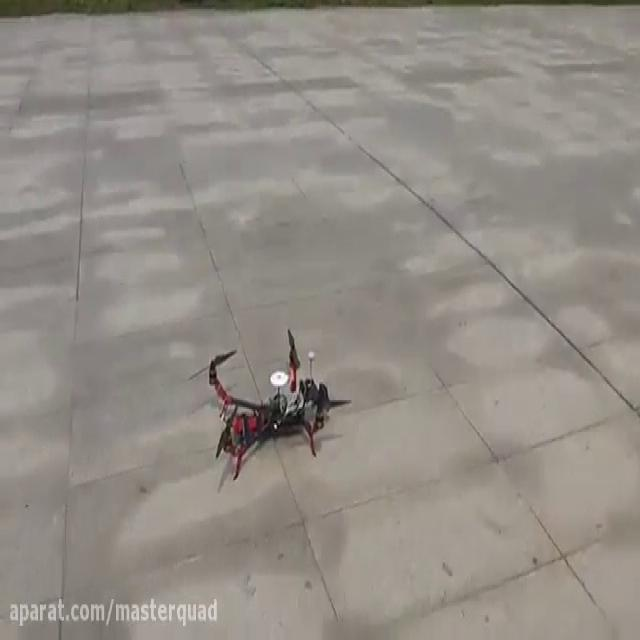drone: (183, 324, 352, 484)
